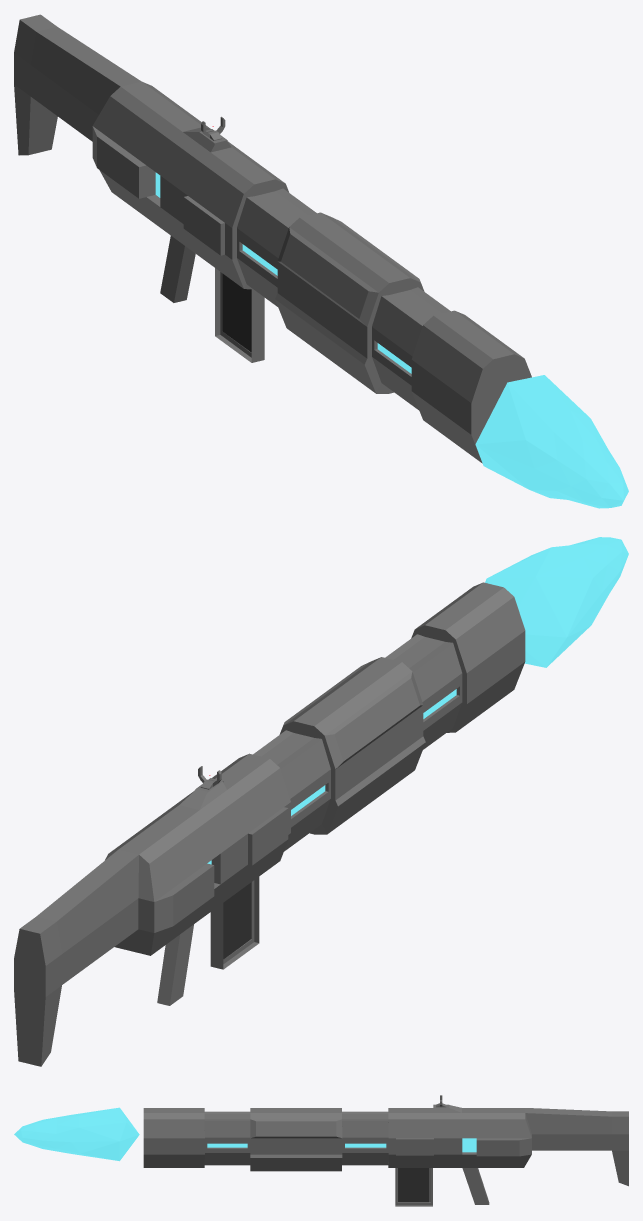
File: rifle.glb
The picture shows the model from 3 angles, top to bottom: view 1: azimuth 30°, elevation 25°; view 2: azimuth 150°, elevation 25°; view 3: azimuth 270°, elevation 25°; orthographic projection. The views are drawn at different scales.
Visible parts, largest first — view 1: Rifle, Flash; view 2: Rifle, Flash; view 3: Rifle, Flash.
Part boxes in pixels (box(x1,y1,x2,y2)): Rifle: box(14, 14, 531, 463); Flash: box(475, 375, 628, 508); Rifle: box(14, 582, 525, 1066); Flash: box(485, 537, 628, 667); Rifle: box(143, 1104, 628, 1206); Flash: box(14, 1107, 139, 1161).
Bounding box in the file's own units: 0.1027 × 0.2248 × 1.17.
